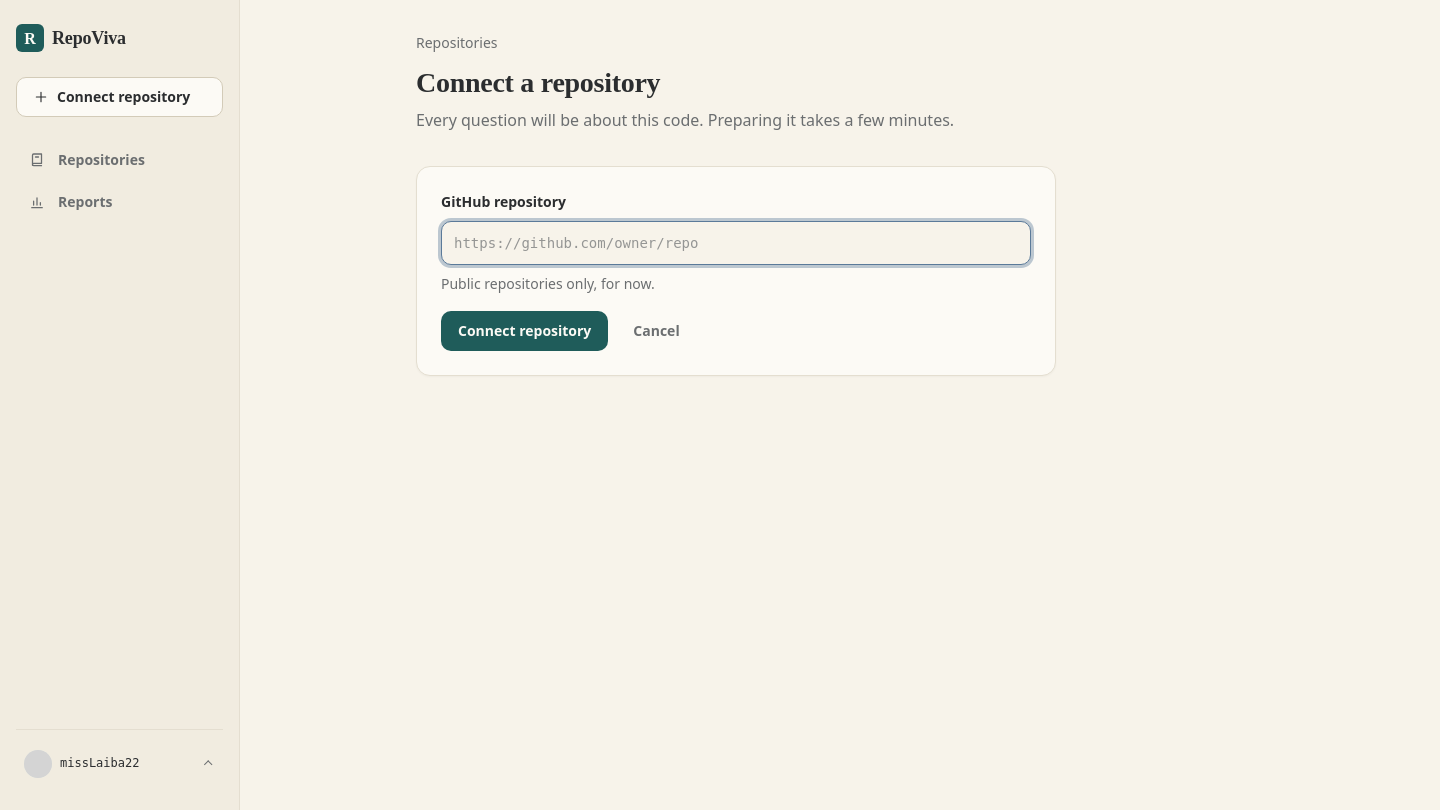
connect repository › treats an already-connected repository as found, not as an error
Type "https://github.com/missLaiba22/ecommerce-api" into the field labelled "GitHub repository".
click(736, 243); type("https://github.com/missLaiba22/ecommerce-api")  # box [441,221,1031,265]
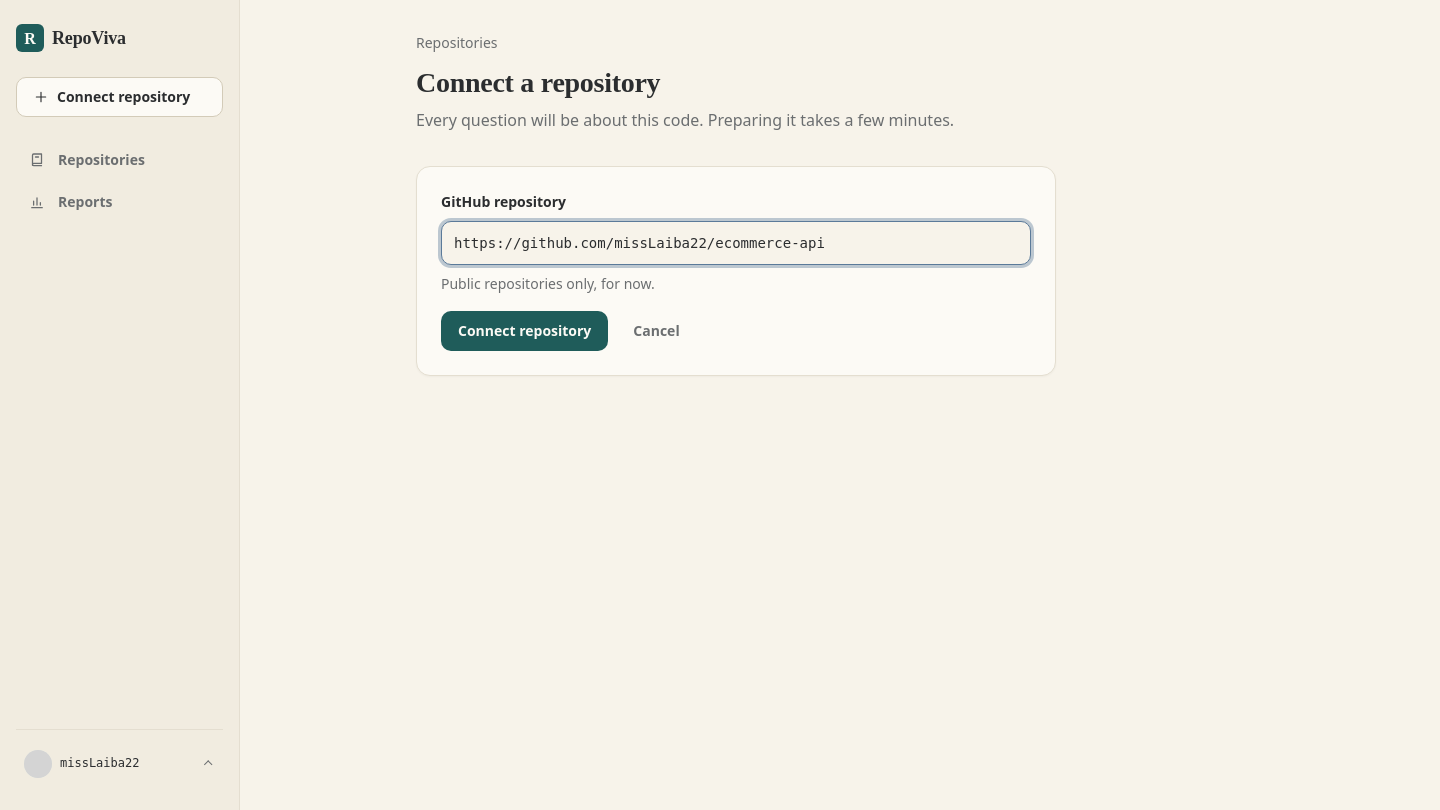
Click the button "Connect repository".
click(525, 331)  # box [441,311,608,351]
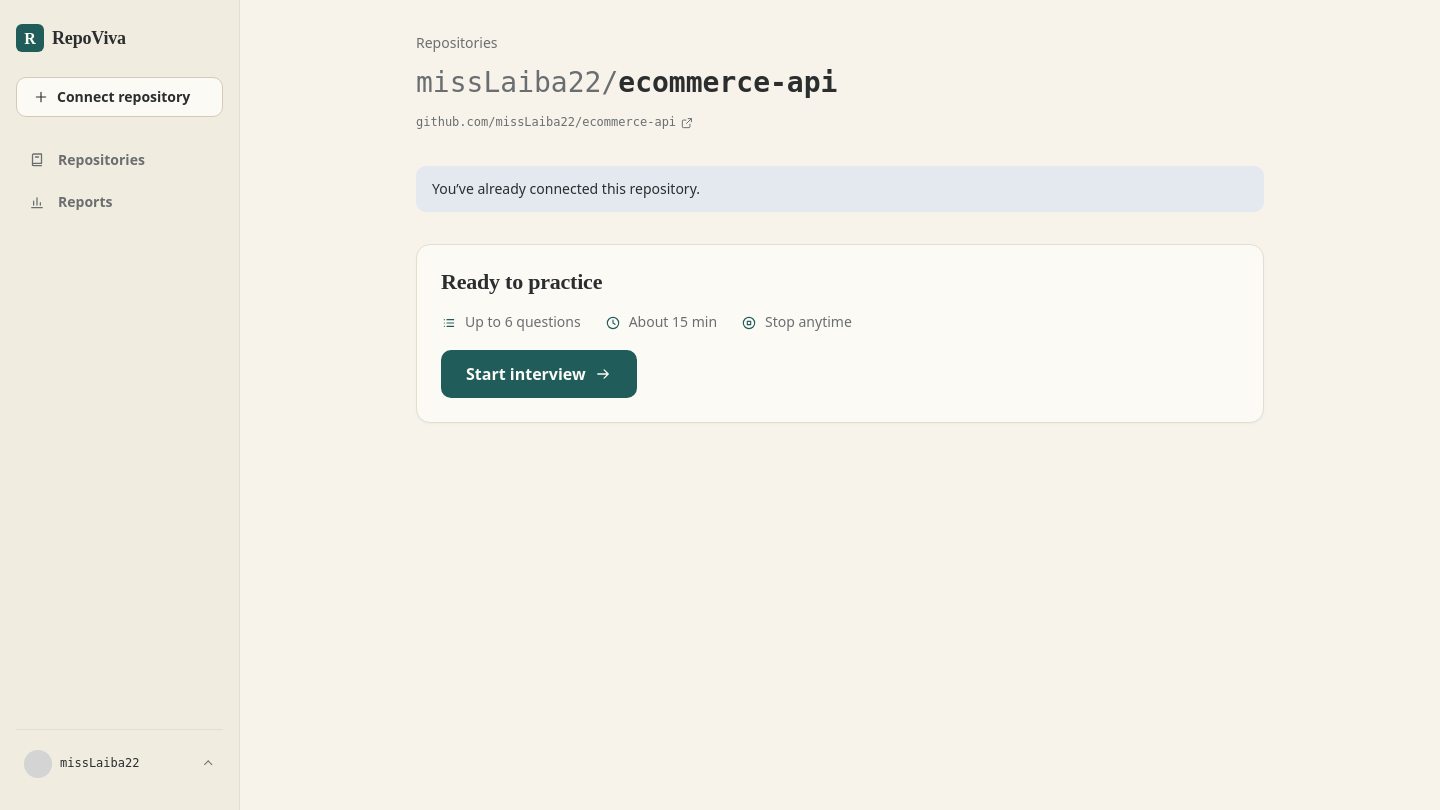
Expected: the text "You’ve already connected this repository." is shown, [416,166,1264,212]
